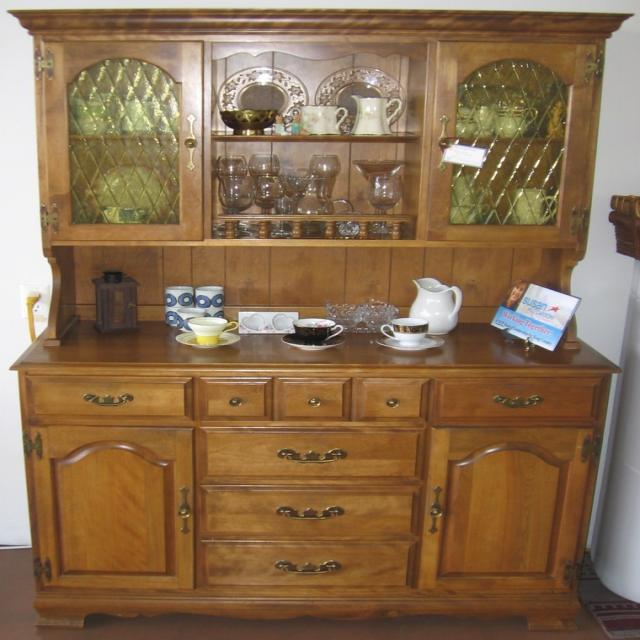Handle: (274, 498, 341, 530), (280, 553, 340, 587), (274, 446, 341, 476), (495, 384, 551, 418), (168, 483, 196, 538), (78, 390, 134, 417), (430, 479, 452, 542)
a glass: (16, 10, 605, 630), (364, 174, 404, 217), (210, 150, 253, 188), (306, 151, 344, 192), (252, 171, 288, 212), (218, 177, 253, 213), (254, 152, 283, 180)
cup: (382, 317, 435, 347), (190, 315, 233, 347), (292, 317, 342, 344), (193, 286, 231, 318), (166, 282, 193, 312)
jug: (411, 275, 462, 343), (353, 92, 404, 136), (296, 103, 354, 136)
